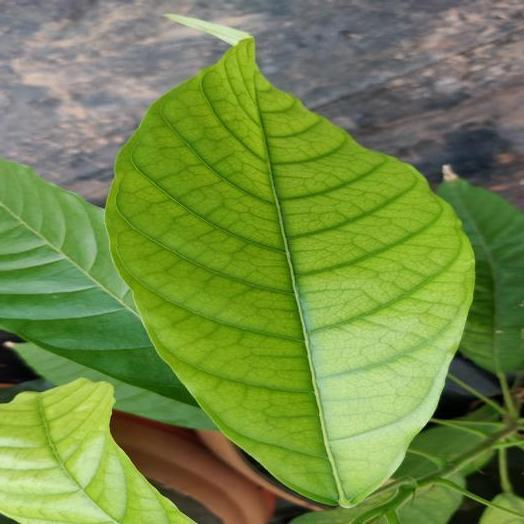Healthy Leaf: (0, 159, 210, 424), (439, 178, 523, 371)
Iron: (106, 30, 473, 506), (0, 379, 192, 523)
